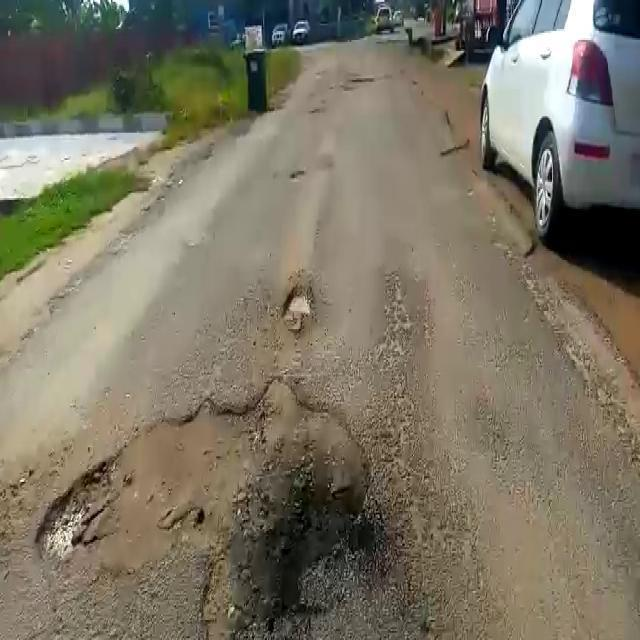pothole: (33, 378, 372, 571), (281, 284, 318, 329)
